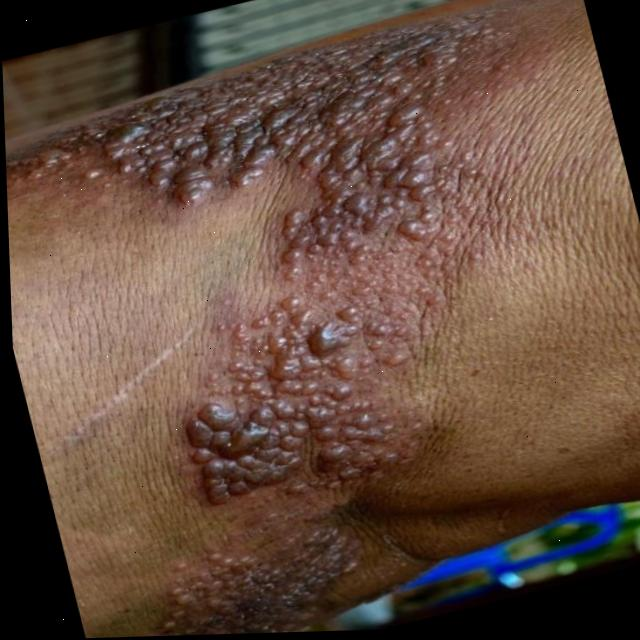Shingles: (0, 0, 594, 547), (82, 511, 387, 638)
